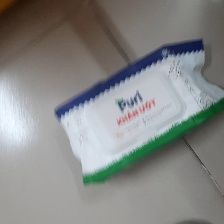Puri Trang: (52, 39, 223, 187)
